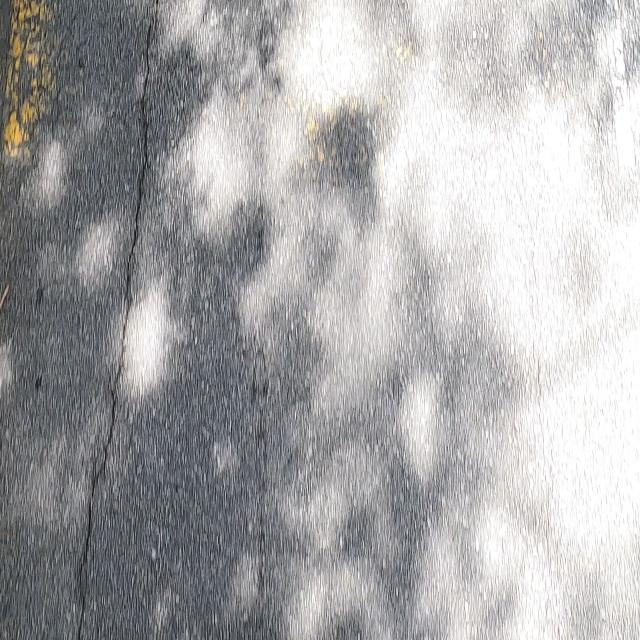Retak-Memanjang: (71, 0, 165, 640)
